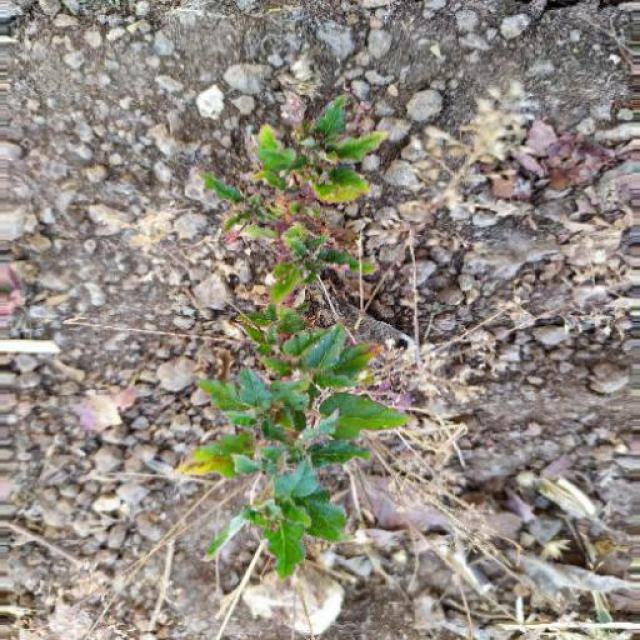weed: (180, 120, 414, 591)
